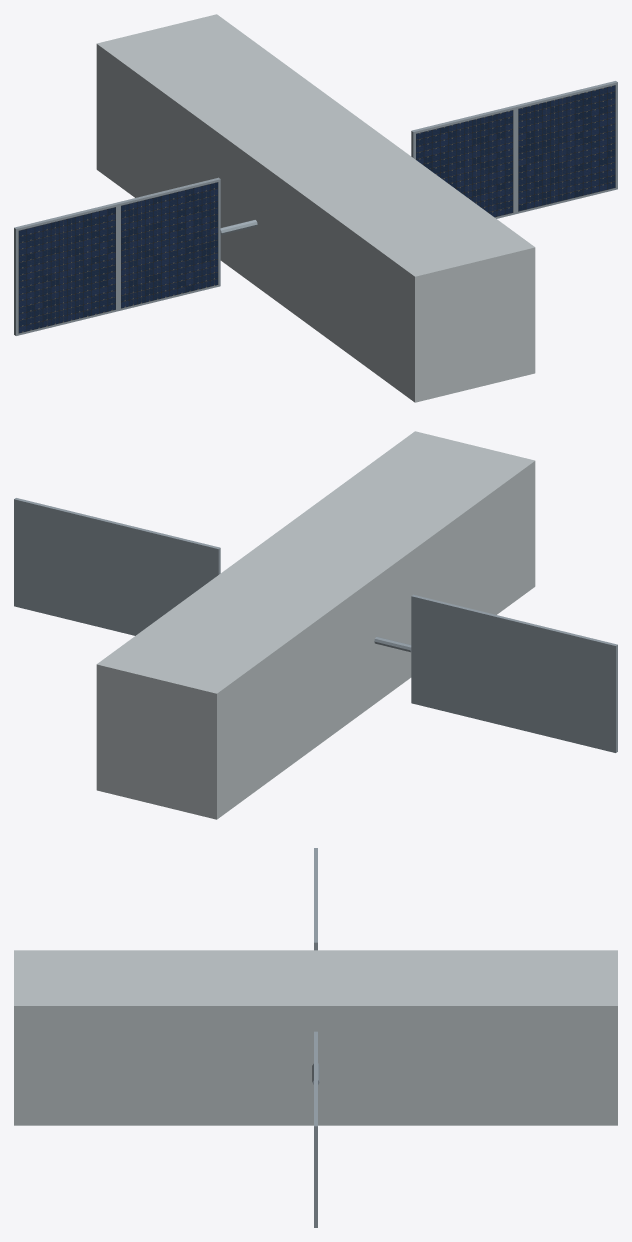
Rendered from ref-fuse-25791.glb.
3 renders of one model, top to bottom at view 1: azimuth 30°, elevation 25°; view 2: azimuth 150°, elevation 25°; view 3: azimuth 270°, elevation 25°, orthographic. The views are drawn at different scales.
Visible parts, largest first — view 1: Spacecraft body, Photovoltaic laminates (×4), Array frame (×4); view 2: Spacecraft body, Array frame (×4); view 3: Spacecraft body, Array frame.
Boxes of the visible parts, left/top/right/bottom form: Spacecraft body: left=96, top=14, right=535, bottom=402; Photovoltaic laminates (×4): left=18, top=85, right=615, bottom=333; Array frame (×4): left=14, top=81, right=617, bottom=335; Spacecraft body: left=96, top=431, right=535, bottom=819; Array frame (×4): left=14, top=498, right=617, bottom=752; Spacecraft body: left=14, top=950, right=617, bottom=1125; Array frame: left=314, top=1079, right=317, bottom=1227.
Size of the model in its own units: 6 by 1.2 by 5.5.
Materials: 3 (1 with a texture image).
